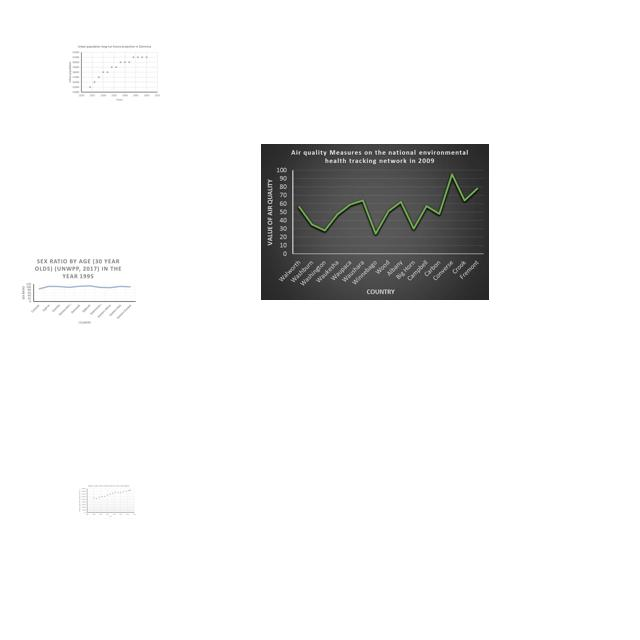Graph: (261, 144, 489, 300), (20, 257, 137, 326), (61, 43, 161, 103), (78, 484, 137, 519)
